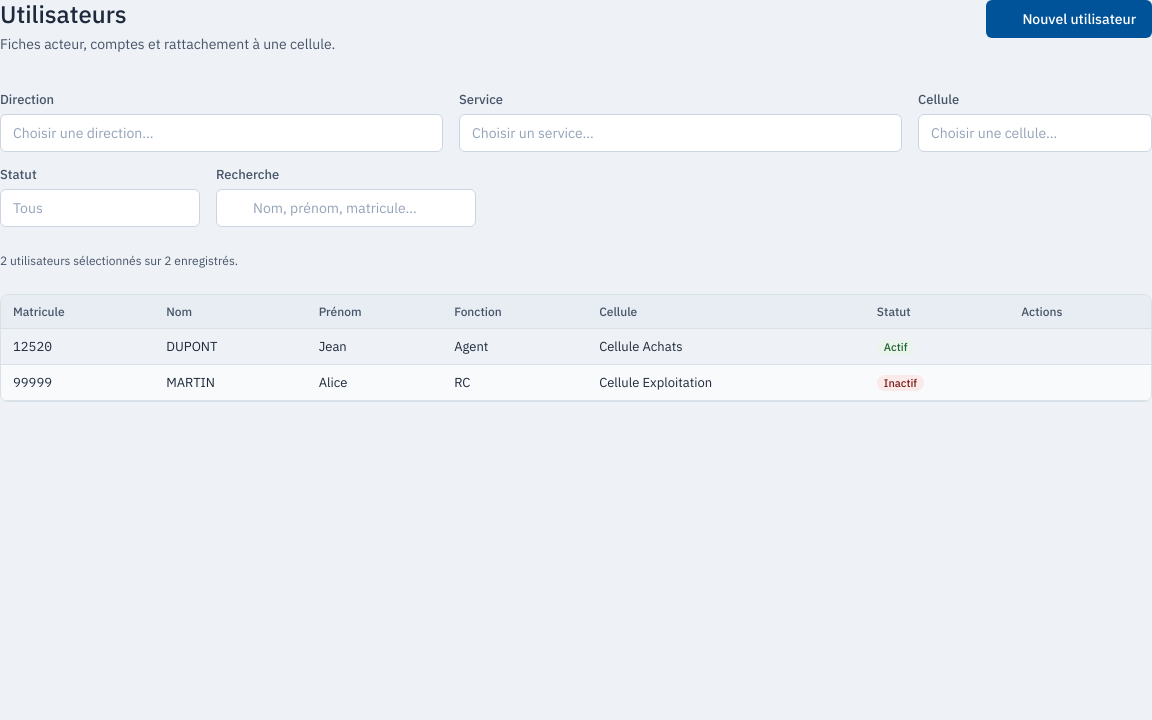
Utilisateurs › filtre le matricule aux chiffres et le limite à 6 caractères
Click the button "Nouvel utilisateur": {"x": 1069, "y": 19} [986,0,1151,38]
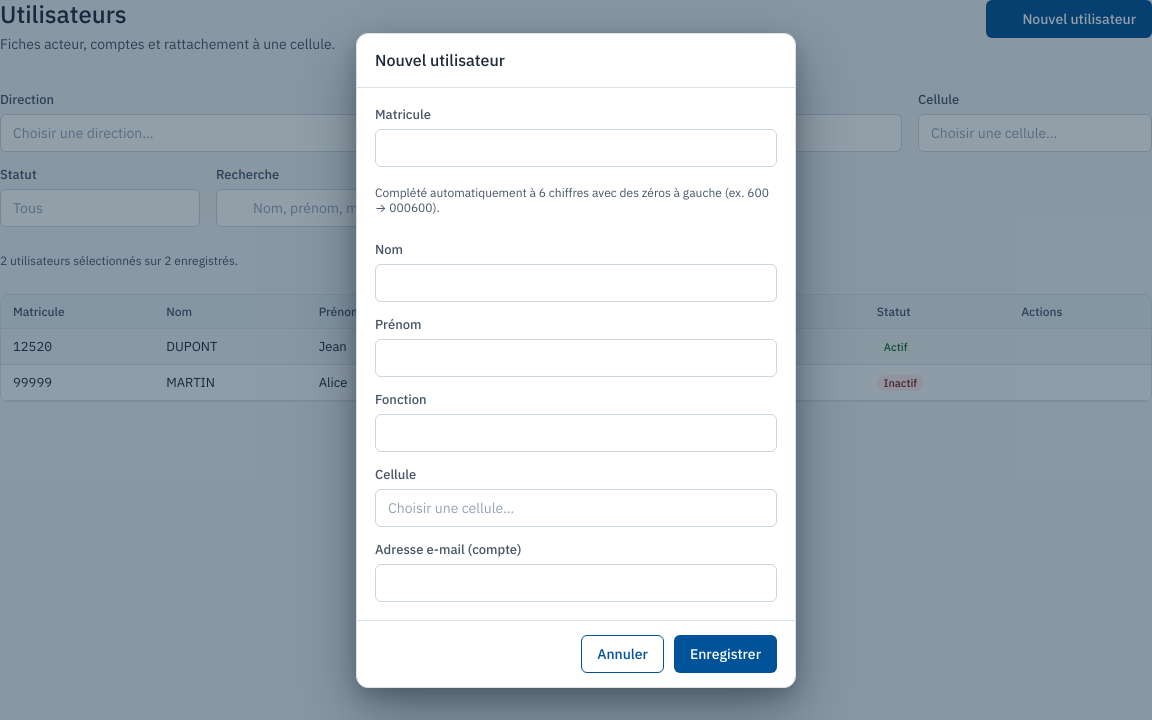
In the field labelled "Matricule": {"x": 576, "y": 148} [375,128,777,166], type "ab12cd3456789"
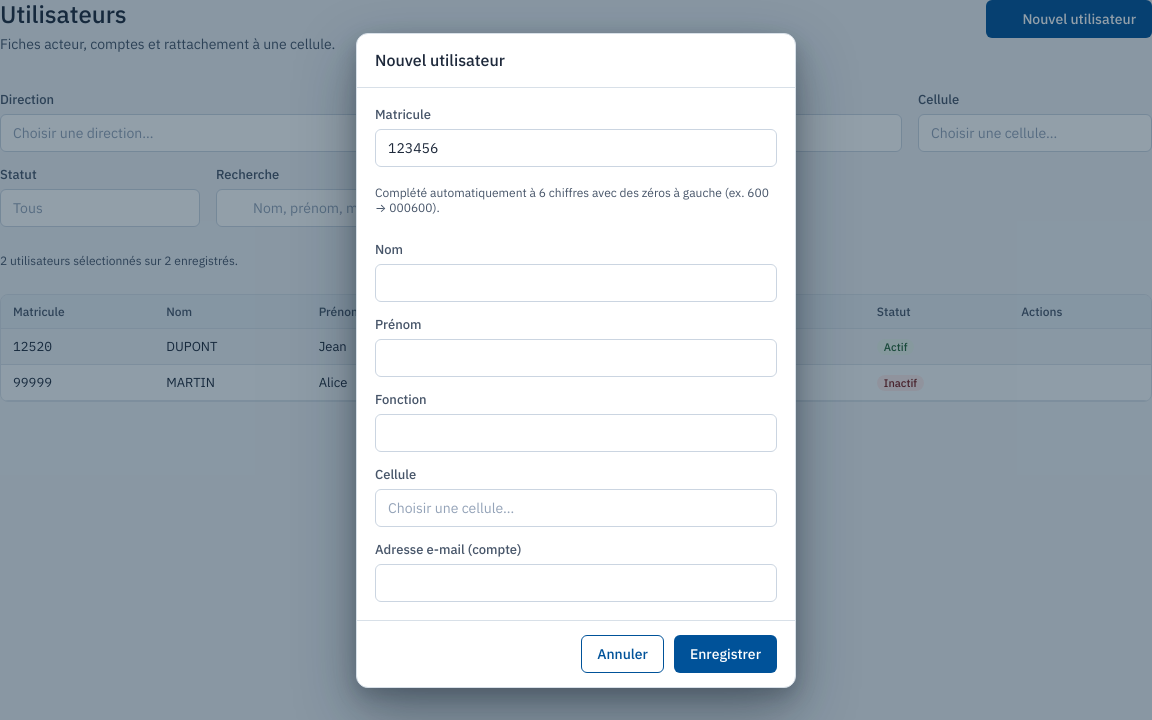
Expected: the field labelled "Matricule" holds "123456", [375,128,777,166]
